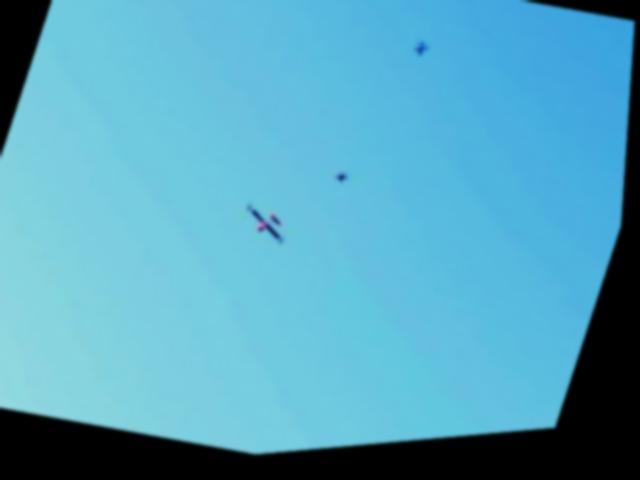uav: (231, 196, 309, 261)
